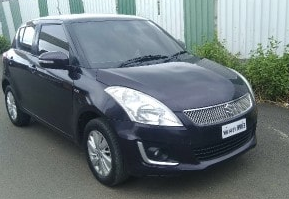car: (1, 13, 259, 188)
